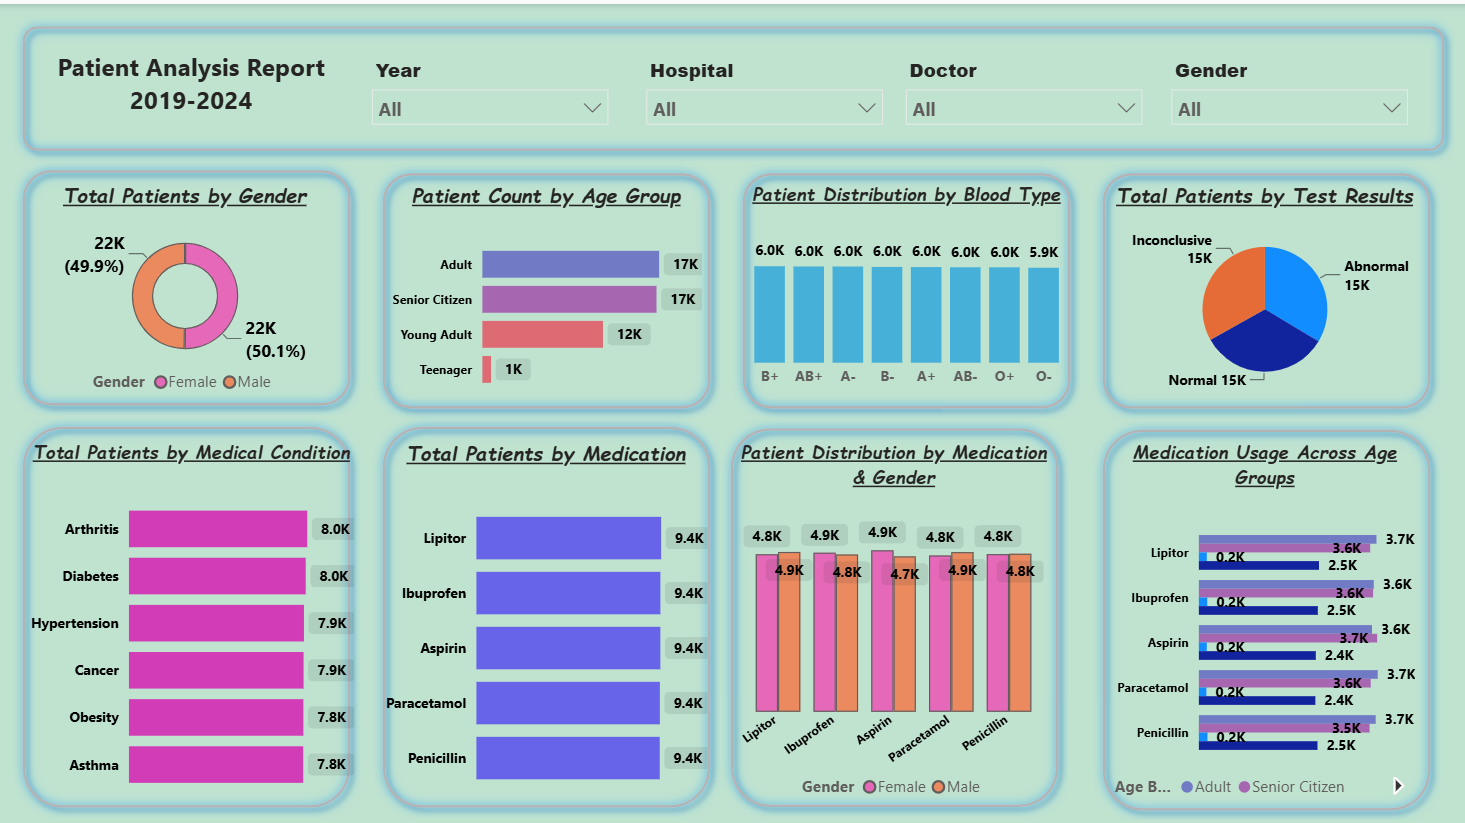

What the dashboard file says about the page in this screenshot:
{"tool":"powerbi","page":{"name":"Patient Analysis","canvas":[1280,720],"ordinal":1},"visuals":[{"type":"shape","box":[11.5,10.1,1256.9,126.6],"z":0},{"type":"textbox","box":[21.6,34.5,293.4,77.7],"z":1000},{"type":"slicer","fields":{"Values":["Cleaned_Dataset.Date of Admission.Variation.Date Hierarchy.Year"]},"box":[315,41,226,65.6],"z":2000},{"type":"slicer","fields":{"Values":["Cleaned_Dataset.Hospital"]},"box":[554.1,41,226,65.6],"z":3000},{"type":"slicer","fields":{"Values":["Cleaned_Dataset.Gender"]},"box":[1011.8,41,226,65.6],"z":4000},{"type":"slicer","fields":{"Values":["Cleaned_Dataset.Doctor"]},"box":[780,41,226,65.6],"z":5000},{"type":"shape","box":[11.5,136.6,303.4,222.9],"z":6000},{"type":"shape","box":[325,138.1,303.4,222.9],"z":7000},{"type":"shape","box":[640,138.1,303.4,222.9],"z":8000},{"type":"shape","box":[953.4,138.5,303.2,223.1],"z":9000},{"type":"shape","box":[11.7,360.1,303.2,349.9],"z":10000},{"type":"shape","box":[325.1,360.1,303.2,349.9],"z":11000},{"type":"shape","box":[628.5,361,303.4,348],"z":12000},{"type":"shape","box":[953.4,361.5,303.2,349.9],"z":13000},{"type":"donutChart","fields":{"Category":["Cleaned_Dataset.Gender"],"Y":["Measure.Total Patients"]},"box":[21.6,153.9,281.9,194.1],"z":14000},{"type":"clusteredBarChart","title":"Patient Count by Age Group","fields":{"Category":["Cleaned_Dataset.Age Band"],"Y":["Measure.Total Patients"]},"box":[336.5,153.9,281.9,194.1],"z":15000},{"type":"clusteredColumnChart","title":"Patient Distribution by Blood Type","fields":{"Category":["Cleaned_Dataset.Blood Type"],"Y":["Measure.Total Patients"]},"box":[640,153.9,303.4,188.4],"z":16000},{"type":"clusteredBarChart","fields":{"Category":["Cleaned_Dataset.Medical Condition"],"Y":["Measure.Total Patients"]},"box":[21.6,379.7,293.4,322.1],"z":17000},{"type":"clusteredBarChart","fields":{"Category":["Cleaned_Dataset.Medication"],"Y":["Measure.Total Patients"]},"box":[330.8,379.7,291.9,322.1],"z":18000},{"type":"pieChart","fields":{"Category":["Cleaned_Dataset.Test Results"],"Y":["Measure.Total Patients"]},"box":[968,154.5,271.2,188.1],"z":19000},{"type":"clusteredColumnChart","title":"Patient Distribution by Medication & Gender","fields":{"Category":["Cleaned_Dataset.Medication"],"Y":["Measure.Total Patients"],"Series":["Cleaned_Dataset.Gender"]},"box":[634.2,379.7,291.9,322.1],"z":20000},{"type":"clusteredBarChart","title":"Medication Usage Across Age Groups","fields":{"Category":["Cleaned_Dataset.Medication"],"Y":["Measure.Total Patients"],"Series":["Cleaned_Dataset.Age Band"]},"box":[967.8,379.7,271.8,322.1],"z":21000}]}

Visuals, with their boxes in screenshot pixels (x1, y1, x2, y2), scaled from the page's 1280x720 canvas onto the 1465x823 screenshot:
shape: (13,12,1452,156)
textbox: (25,39,361,128)
slicer - Cleaned_Dataset.Date of Admission.Variation.Date Hierarchy.Year: (361,47,619,122)
slicer - Cleaned_Dataset.Hospital: (634,47,893,122)
slicer - Cleaned_Dataset.Gender: (1158,47,1417,122)
slicer - Cleaned_Dataset.Doctor: (893,47,1151,122)
shape: (13,156,360,411)
shape: (372,158,719,413)
shape: (732,158,1080,413)
shape: (1091,158,1438,413)
shape: (13,412,360,812)
shape: (372,412,719,812)
shape: (719,413,1067,810)
shape: (1091,413,1438,813)
donutChart - Cleaned_Dataset.Gender x Measure.Total Patients: (25,176,347,398)
"Patient Count by Age Group" clusteredBarChart: (385,176,708,398)
"Patient Distribution by Blood Type" clusteredColumnChart: (732,176,1080,391)
clusteredBarChart - Cleaned_Dataset.Medical Condition x Measure.Total Patients: (25,434,361,802)
clusteredBarChart - Cleaned_Dataset.Medication x Measure.Total Patients: (379,434,713,802)
pieChart - Cleaned_Dataset.Test Results x Measure.Total Patients: (1108,177,1418,392)
"Patient Distribution by Medication & Gender" clusteredColumnChart: (726,434,1060,802)
"Medication Usage Across Age Groups" clusteredBarChart: (1108,434,1419,802)
